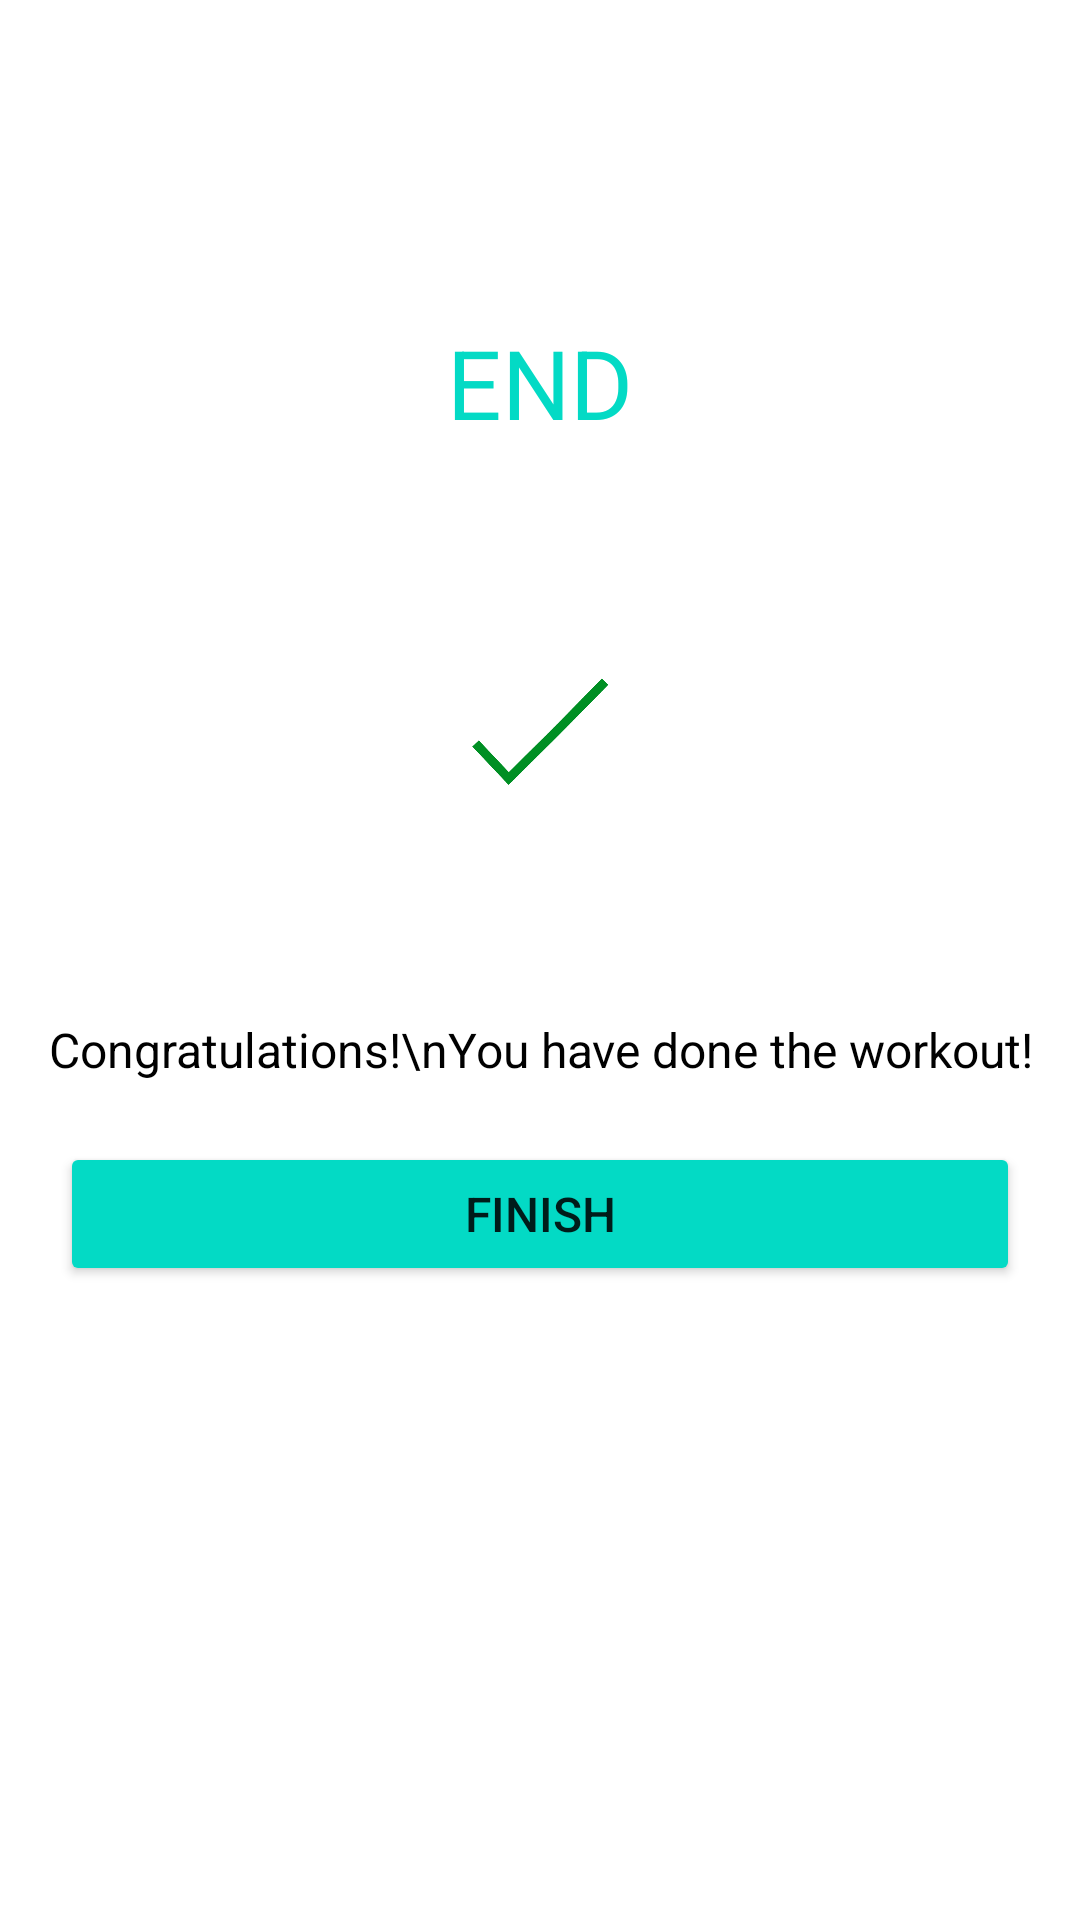

Icons on this 1080x1920 Android screen, each with the point to tap as [x,y]:
checkmark: [540,732]
